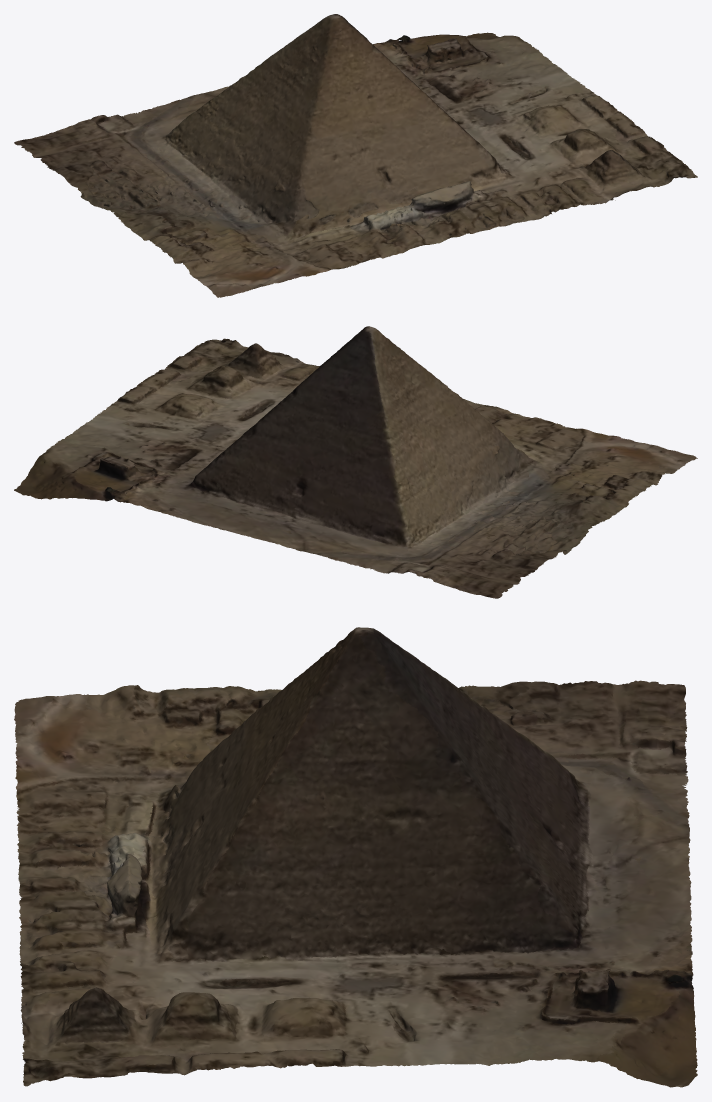
The model's file is grande-pyramide-de-kheops.glb.
3 renders of one model, top to bottom at view 1: azimuth 30°, elevation 25°; view 2: azimuth 150°, elevation 25°; view 3: azimuth 270°, elevation 25°, orthographic. The views are drawn at different scales.
Parts seen in each view (by area): view 1: mat-0; view 2: mat-0; view 3: mat-0.
Boxes of the visible parts, x1=… form: mat-0: x1=14, y1=14, x2=697, y2=297; mat-0: x1=14, y1=326, x2=697, y2=598; mat-0: x1=14, y1=627, x2=697, y2=1087.
Size of the model in its own units: 1 by 0.3072 by 0.7379.
Materials: 1 (1 with a texture image).
